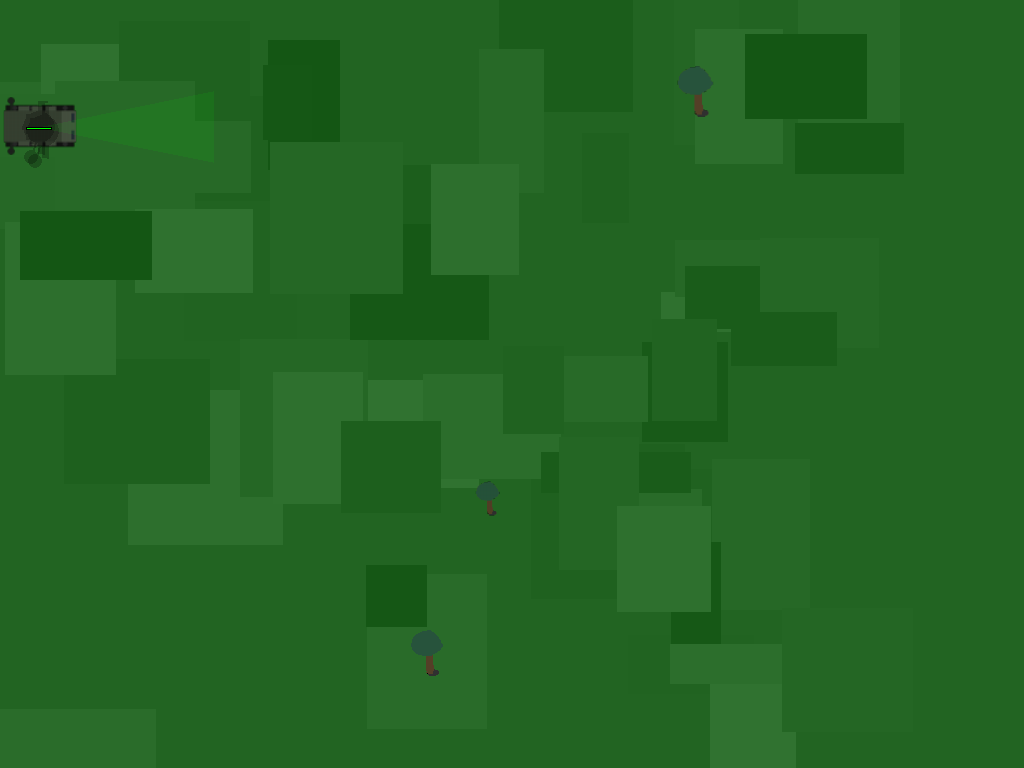RadarBuilding: (0, 85, 83, 168)
